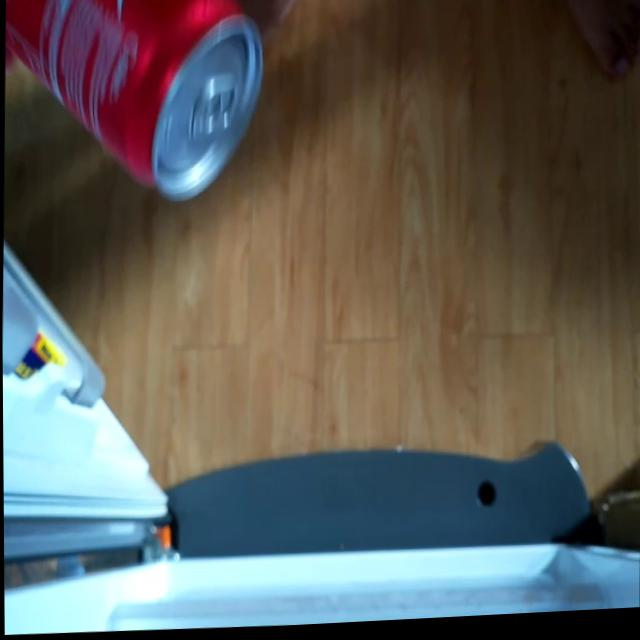coke: (1, 0, 264, 214)
